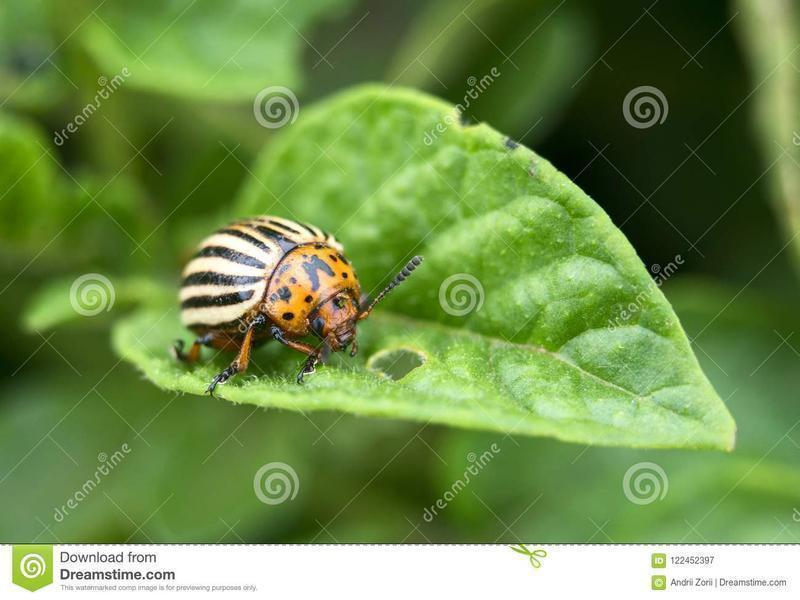hrosc: (178, 210, 388, 390)
